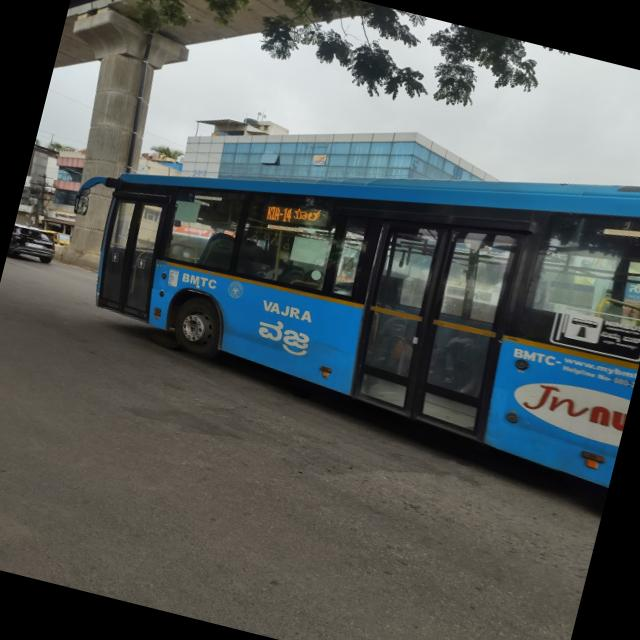bus: (46, 44, 640, 498)
display: (258, 194, 334, 236)
dnumber: (263, 202, 294, 224)
